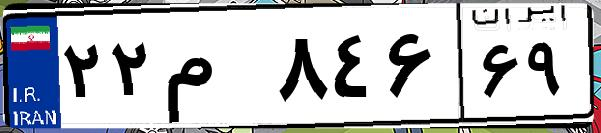2: (57, 26, 110, 100), (110, 28, 158, 98)
4: (330, 28, 385, 110)
6: (385, 28, 445, 110), (475, 38, 525, 113)
8: (270, 28, 330, 110)
9: (525, 38, 570, 115)
م: (158, 20, 270, 120)
